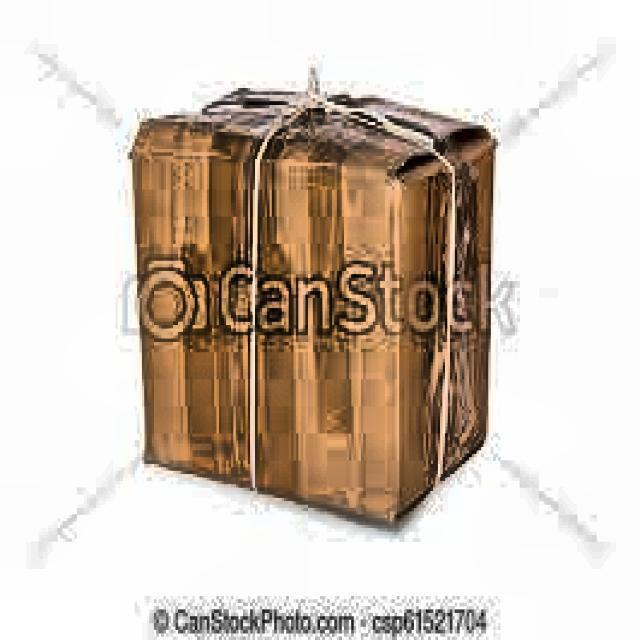cardboard: (128, 71, 498, 525)
